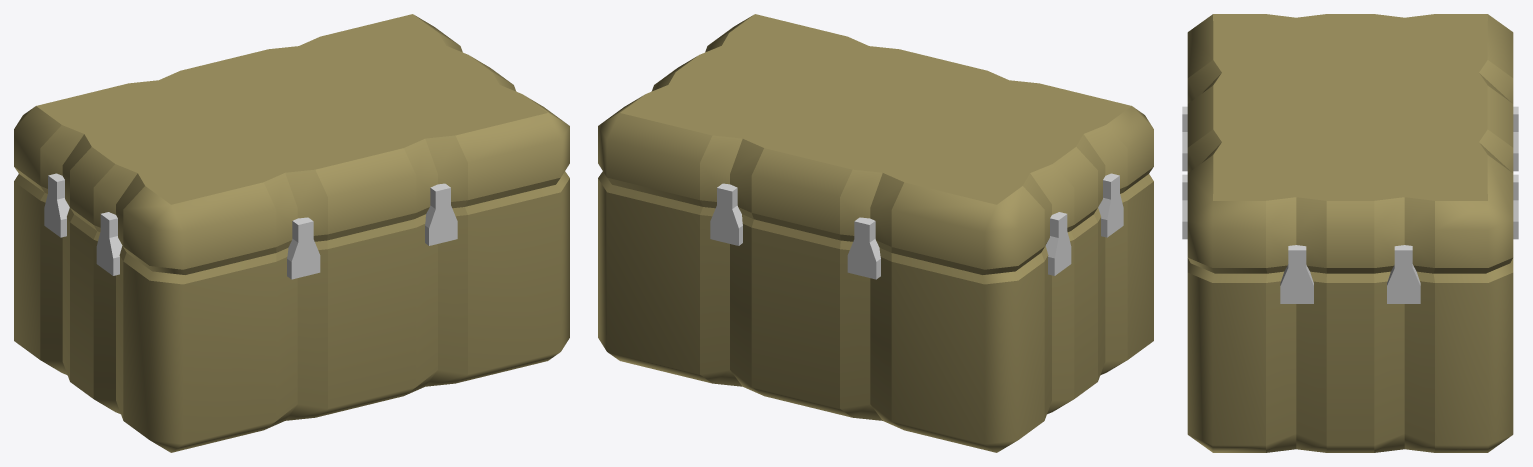
Rendered from box_big_1.glb.
3 renders of one model, left to right at view 1: azimuth 30°, elevation 25°; view 2: azimuth 150°, elevation 25°; view 3: azimuth 270°, elevation 25°, orthographic.
Visible parts, largest first — view 1: box_003; view 2: box_003; view 3: box_003.
Boxes of the visible parts, <box> form: box_003: <box>14,14,569,452</box>; box_003: <box>598,14,1153,452</box>; box_003: <box>1182,14,1518,452</box>.
Size of the model in its own units: 1.41 by 0.7844 by 0.9475.
Materials: 2 (2 with a texture image).
